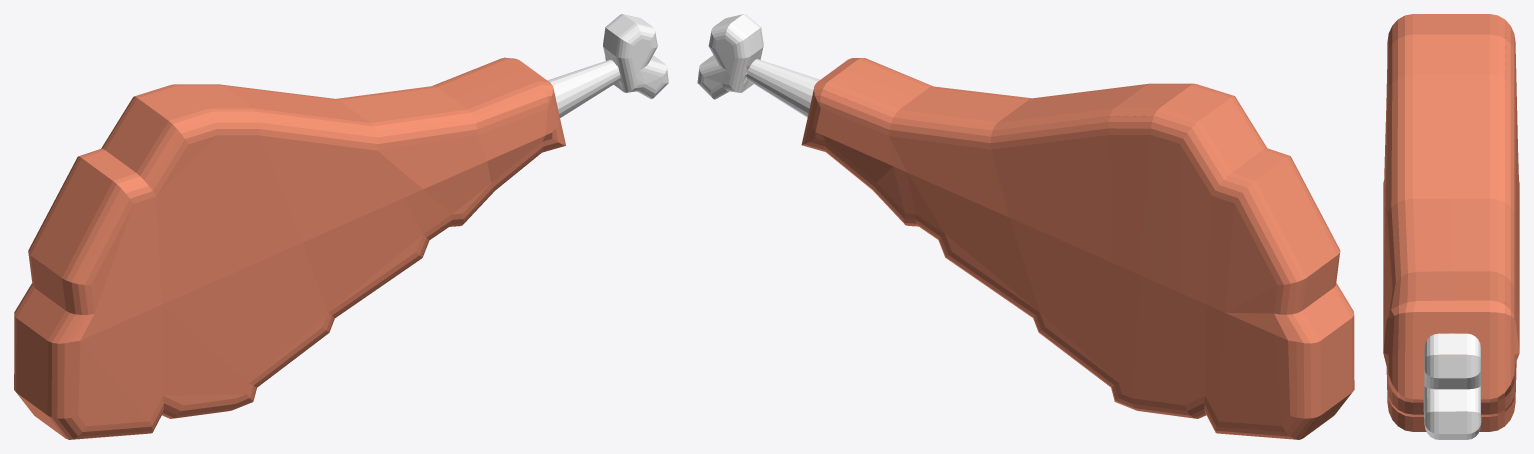
File: Raw_Chicken_Chopped.fbx
The picture shows the model from 3 angles, left to right: view 1: azimuth 30°, elevation 25°; view 2: azimuth 150°, elevation 25°; view 3: azimuth 270°, elevation 25°; orthographic projection. The views are drawn at different scales.
Visible parts, largest first — view 1: Cube; view 2: Cube; view 3: Cube.
Part boxes in pixels (left/top/right/bottom): Cube: left=14, top=14, right=668, bottom=439; Cube: left=697, top=14, right=1354, bottom=439; Cube: left=1383, top=14, right=1519, bottom=439.
Bounding box in the file's own units: 459 × 215 × 69.75.
